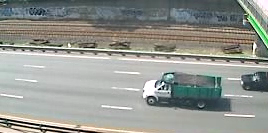car: (140, 71, 225, 110), (240, 70, 268, 92)
